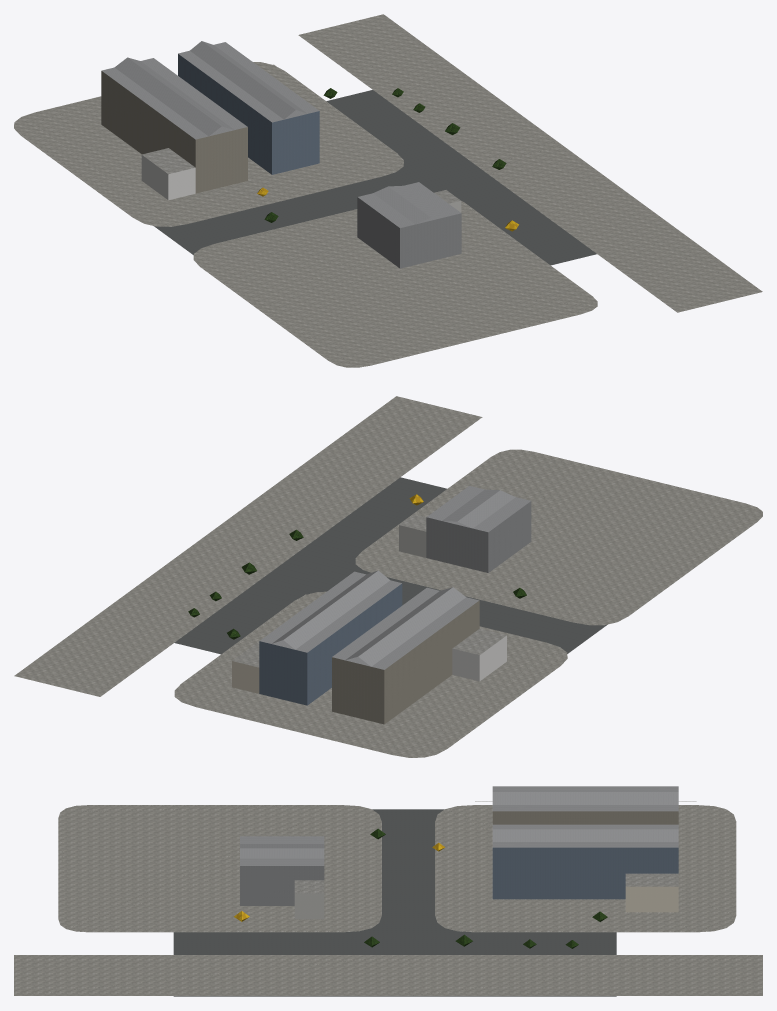
File: cidade_S07_03_lod.gltf
The picture shows the model from 3 angles, top to bottom: view 1: azimuth 30°, elevation 25°; view 2: azimuth 150°, elevation 25°; view 3: azimuth 270°, elevation 25°; orthographic projection. The views are drawn at different scales.
Visible parts, largest first — view 1: S07_03_Chao_LOD2, S07_03_Edificios_LOD1, S07_03_Silhueta_LOD2, S07_03_Vegetacao_LOD2; view 2: S07_03_Chao_LOD2, S07_03_Edificios_LOD1, S07_03_Silhueta_LOD2, S07_03_Vegetacao_LOD2; view 3: S07_03_Chao_LOD2, S07_03_Edificios_LOD1, S07_03_Silhueta_LOD2, S07_03_Vegetacao_LOD2.
Part boxes in pixels (box(x1,y1,x2,y2)): S07_03_Chao_LOD2: box(14, 14, 762, 367); S07_03_Edificios_LOD1: box(33, 41, 512, 268); S07_03_Silhueta_LOD2: box(101, 42, 461, 267); S07_03_Vegetacao_LOD2: box(257, 88, 518, 231); S07_03_Chao_LOD2: box(14, 396, 762, 757); S07_03_Edificios_LOD1: box(193, 489, 548, 735); S07_03_Silhueta_LOD2: box(259, 486, 531, 724); S07_03_Vegetacao_LOD2: box(188, 494, 526, 639); S07_03_Chao_LOD2: box(14, 805, 762, 996); S07_03_Edificios_LOD1: box(240, 792, 696, 919); S07_03_Silhueta_LOD2: box(240, 786, 678, 905); S07_03_Vegetacao_LOD2: box(234, 828, 607, 948).
Size of the model in its own units: 102 by 15.13 by 169.
12 materials, 12 textured.
